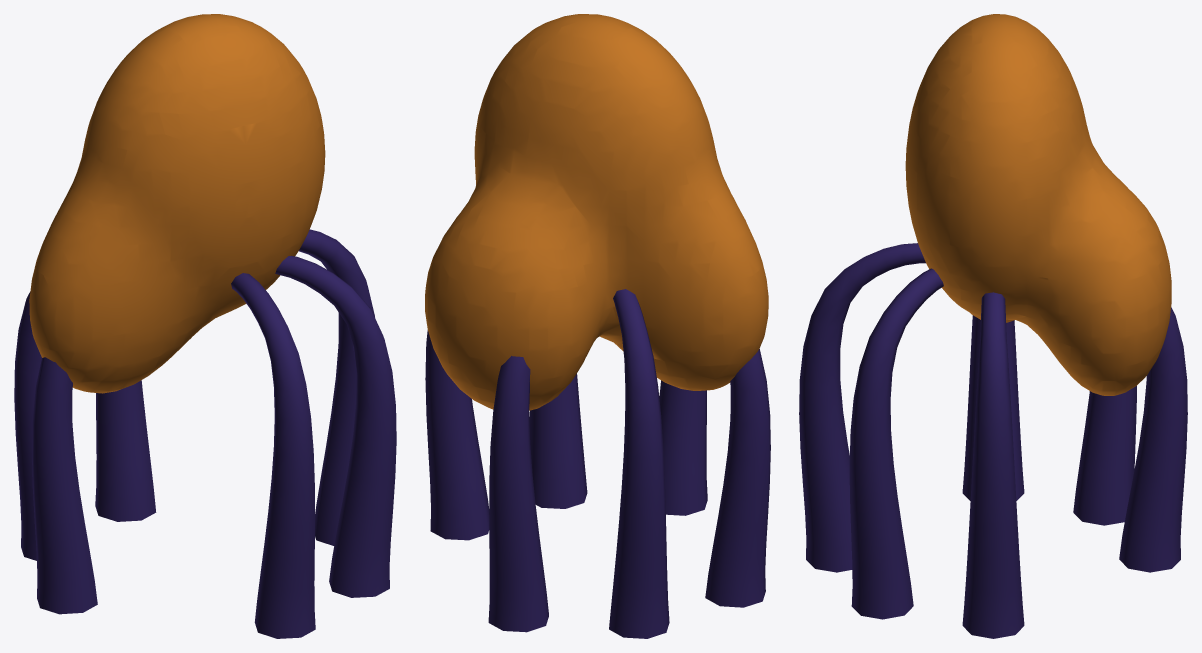
File: tree-blob-2.glb
3 views of the same model, side by side, from view 1: azimuth 30°, elevation 25°; view 2: azimuth 150°, elevation 25°; view 3: azimuth 270°, elevation 25° (orthographic).
Visible parts, largest first — view 1: Tree_Blob_1; view 2: Tree_Blob_1; view 3: Tree_Blob_1.
Part boxes in pixels (x1=…): Tree_Blob_1: x1=14, y1=14, x2=396, y2=638; Tree_Blob_1: x1=425, y1=14, x2=770, y2=638; Tree_Blob_1: x1=799, y1=14, x2=1187, y2=638.
Bounding box in the file's own units: 3.86 × 5.88 × 3.86.
Materials: 1 (1 with a texture image).
